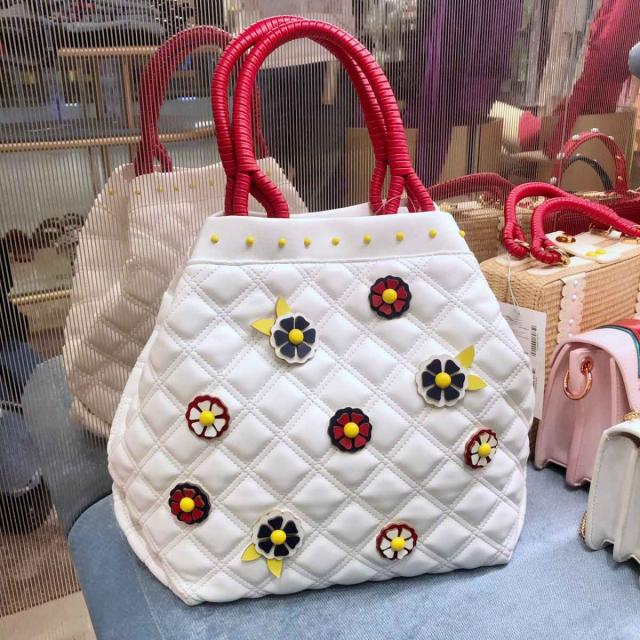Handbag: (97, 189, 540, 626)
